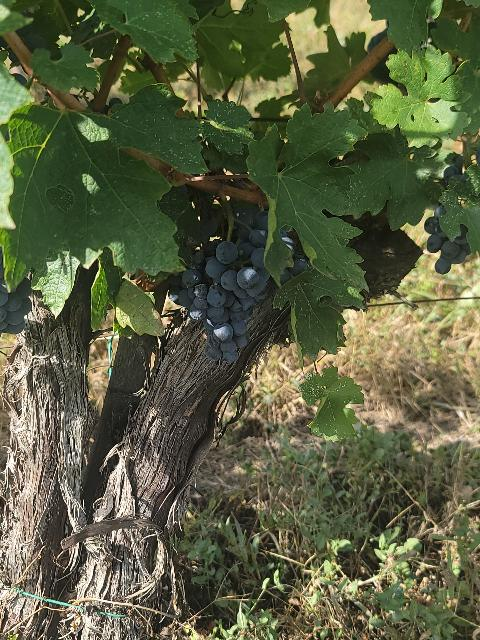grapes: (169, 208, 270, 362)
